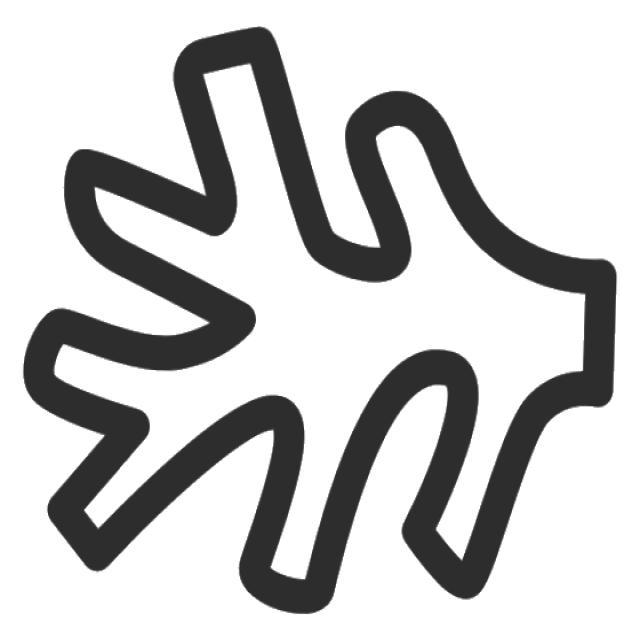coral: (17, 23, 623, 626)
